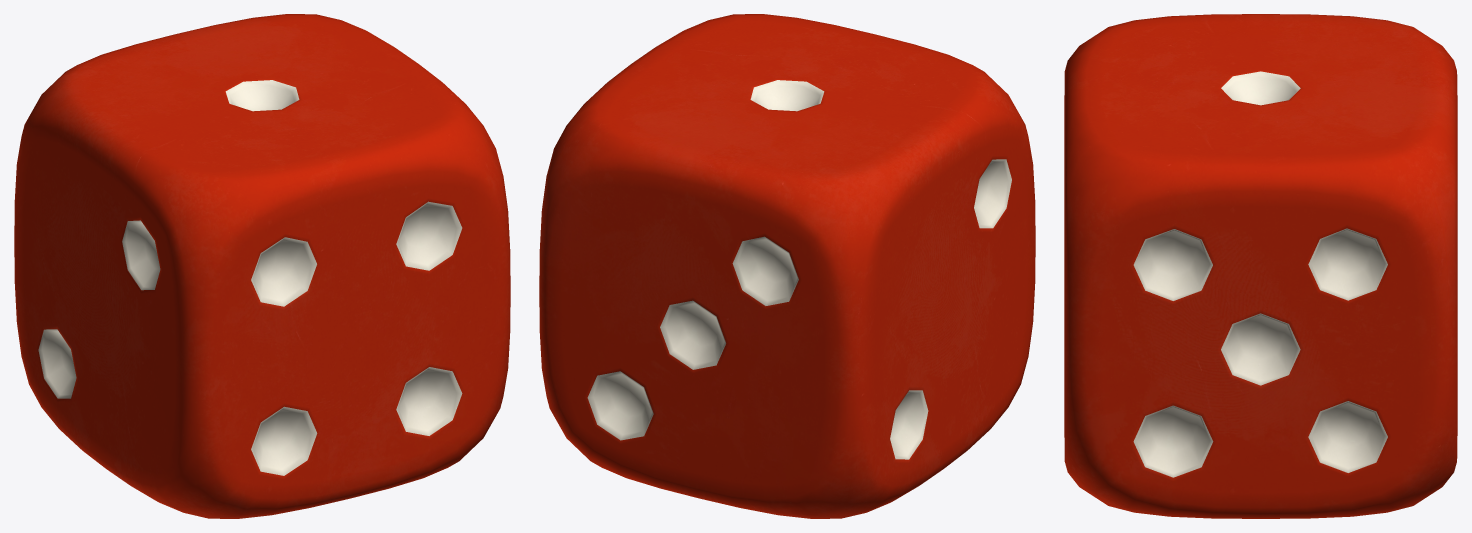
Rendered from 6_Edged_Dice.glb.
The picture shows the model from 3 angles, left to right: view 1: azimuth 30°, elevation 25°; view 2: azimuth 150°, elevation 25°; view 3: azimuth 270°, elevation 25°; orthographic projection. The views are drawn at different scales.
Parts seen in each view (by area): view 1: Dice; view 2: Dice; view 3: Dice.
Part boxes in pixels (x1,y1,x2,y2): Dice: (14,14,510,518); Dice: (539,14,1035,518); Dice: (1064,14,1457,518).
Size of the model in its own units: 0.9864 by 0.9854 by 0.9859.
Materials: 1 (1 with a texture image).
